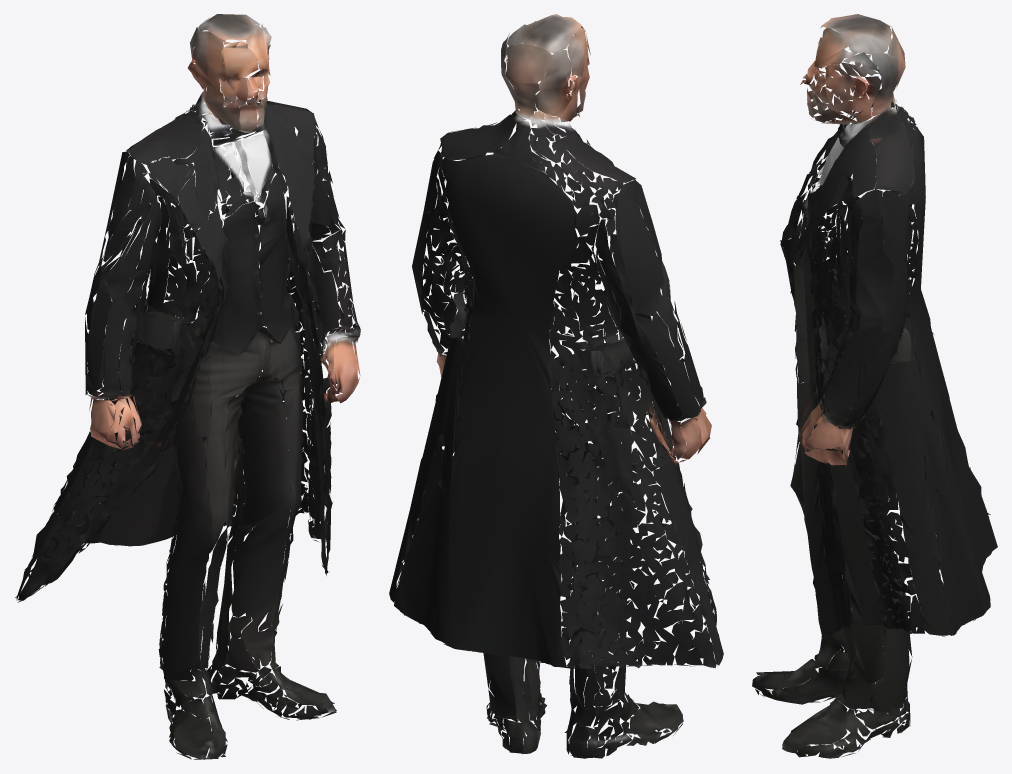
Rendered from char_old_m_top.glb.
3 renders of one model, left to right at view 1: azimuth 30°, elevation 25°; view 2: azimuth 150°, elevation 25°; view 3: azimuth 270°, elevation 25°, orthographic. The views are drawn at different scales.
Parts seen in each view (by area): view 1: geometry_0; view 2: geometry_0; view 3: geometry_0.
Part boxes in pixels (box(x1,y1,x2,y2)): geometry_0: box(15, 14, 360, 759); geometry_0: box(389, 14, 723, 758); geometry_0: box(752, 14, 997, 758).
Bounding box in the file's own units: 0.8693 × 1.85 × 0.5863.
Materials: 1 (1 with a texture image).
